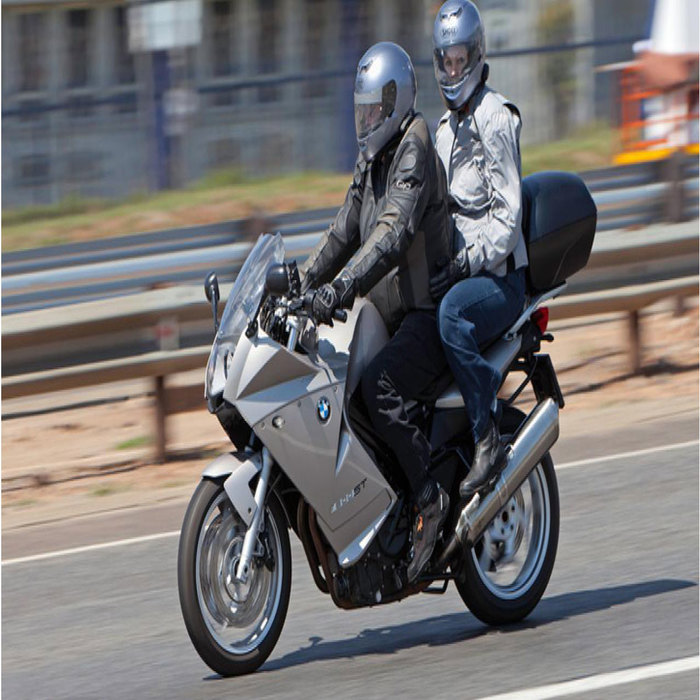h: (430, 1, 487, 112)
helmet: (350, 38, 417, 165)
